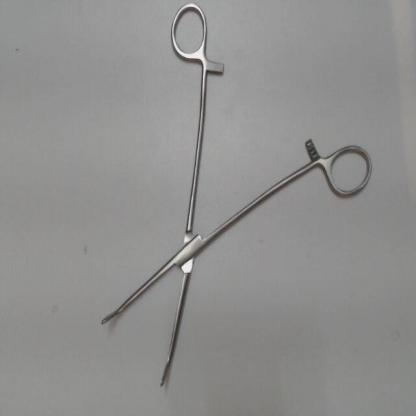Lahey Forceps: (95, 0, 374, 394)
